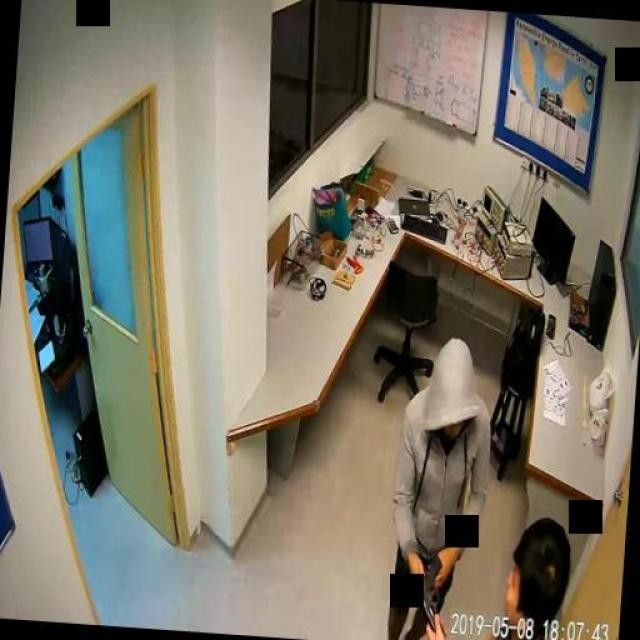gun: (406, 546, 452, 640)
